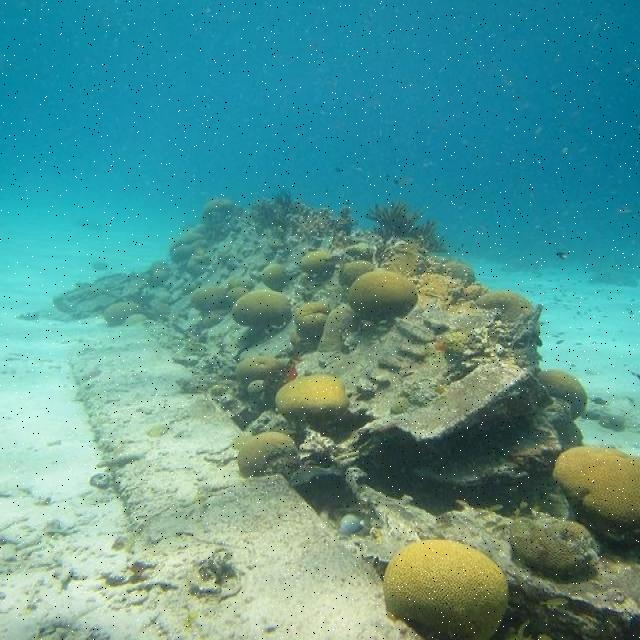aquatic plants: (368, 205, 444, 250)
reefs: (383, 541, 511, 639), (554, 445, 639, 535), (510, 518, 602, 575), (276, 372, 350, 417), (351, 269, 417, 316), (240, 432, 296, 478), (538, 365, 588, 414), (232, 290, 290, 327)
